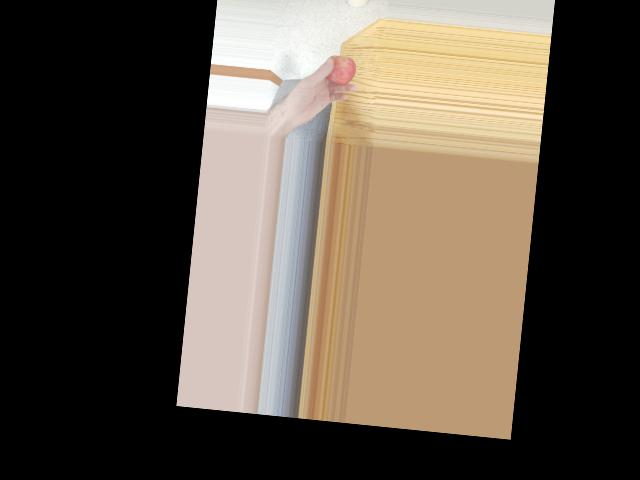apple: (321, 53, 356, 87)
